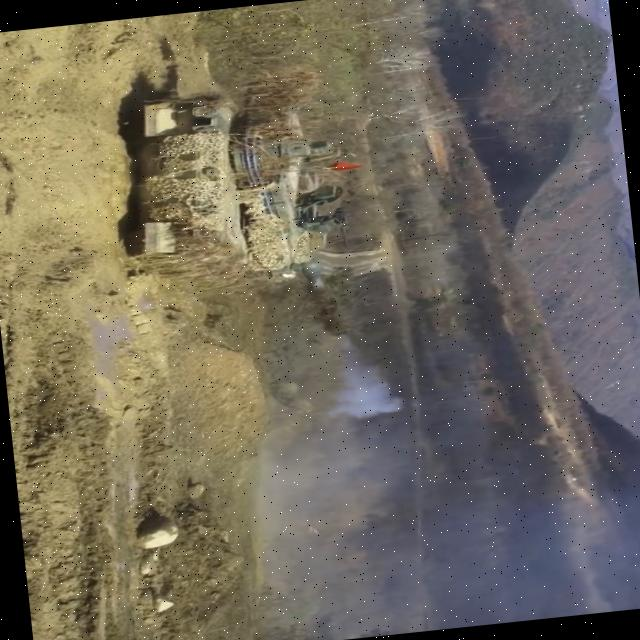korea tank: (102, 71, 362, 358)
